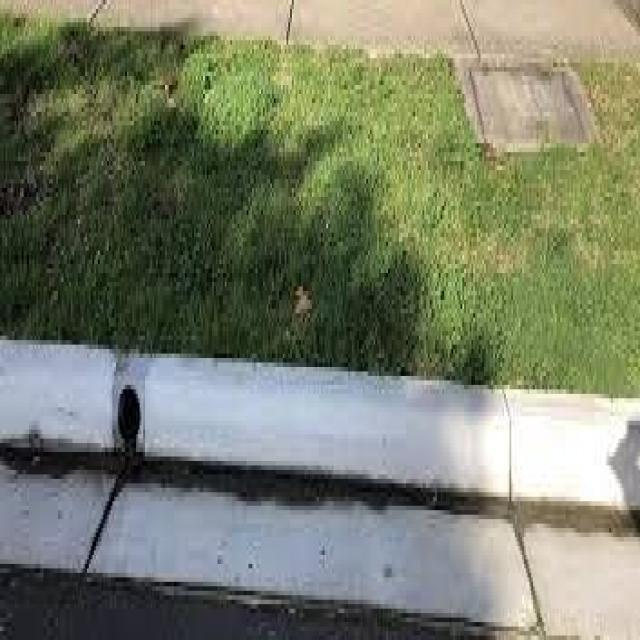curb: (1, 340, 640, 640)
